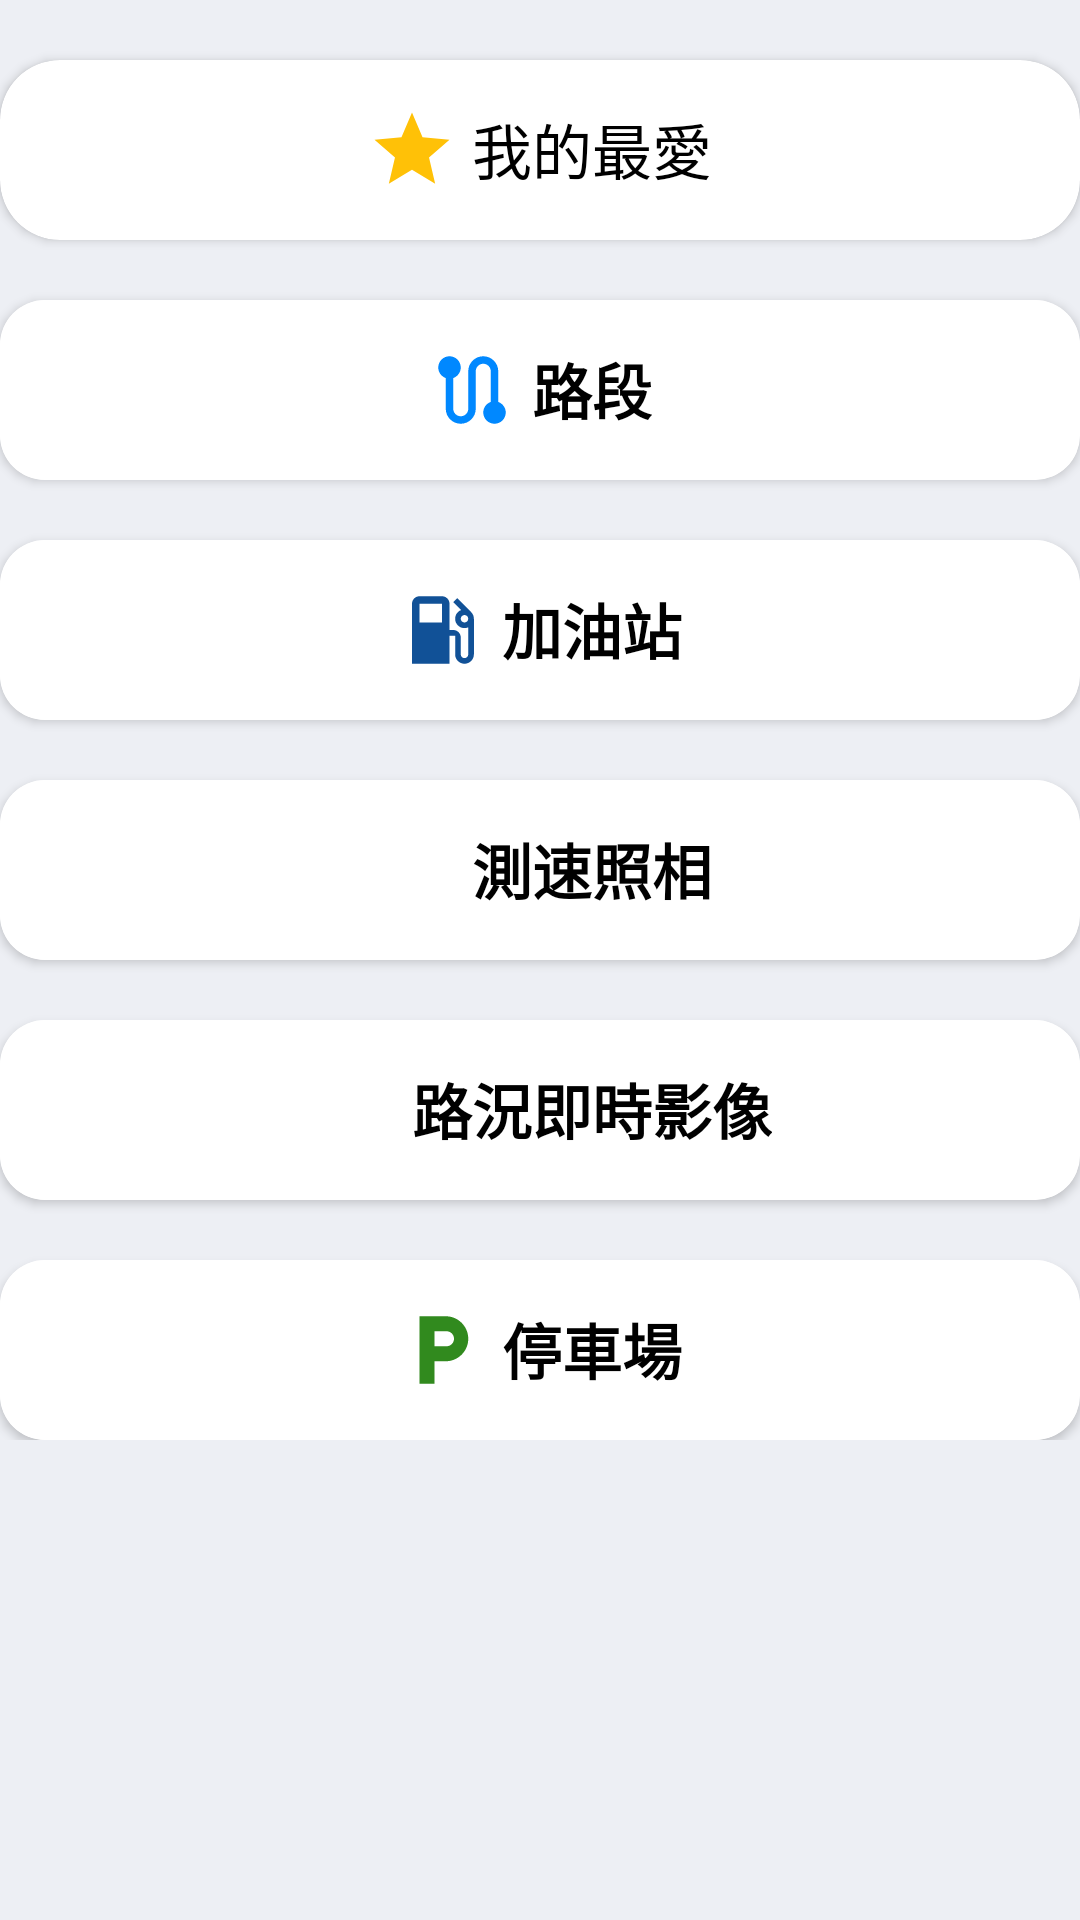

Locate icon controls on the screen. Image size 1080px×1920px, boxes as (x1, y1, x2, y2).
star: (375, 113, 449, 184)
